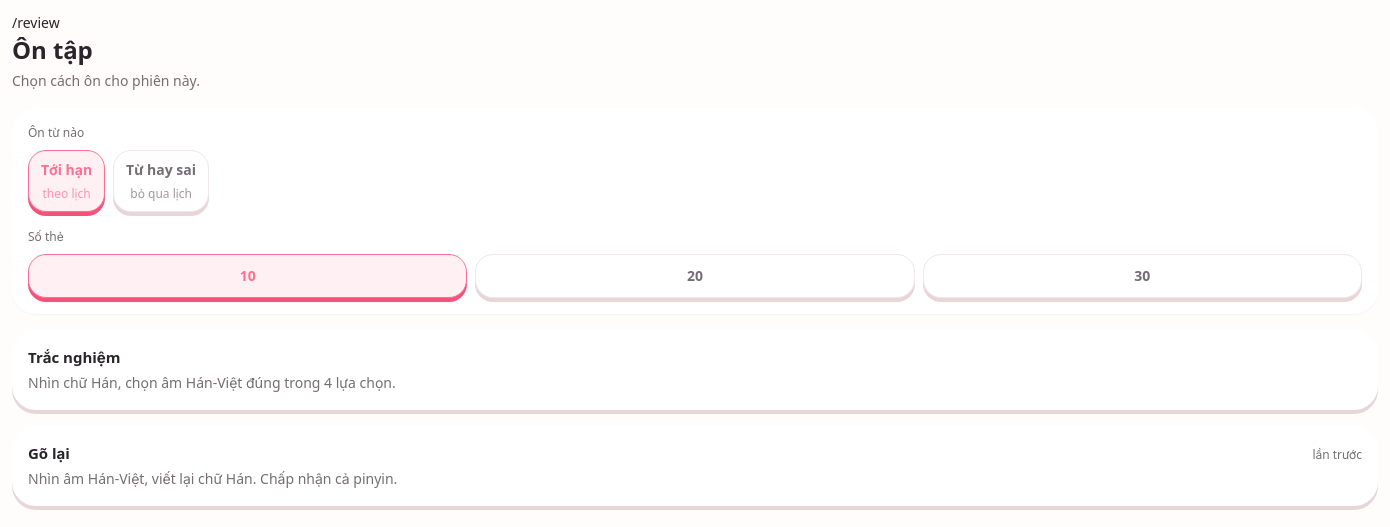
Test: trạng thái rỗng › nói đúng sự thật khi không dựng được câu trắc nghiệm
Click the text "Trắc nghiệm" at (74, 357), box [28,346,120,368]
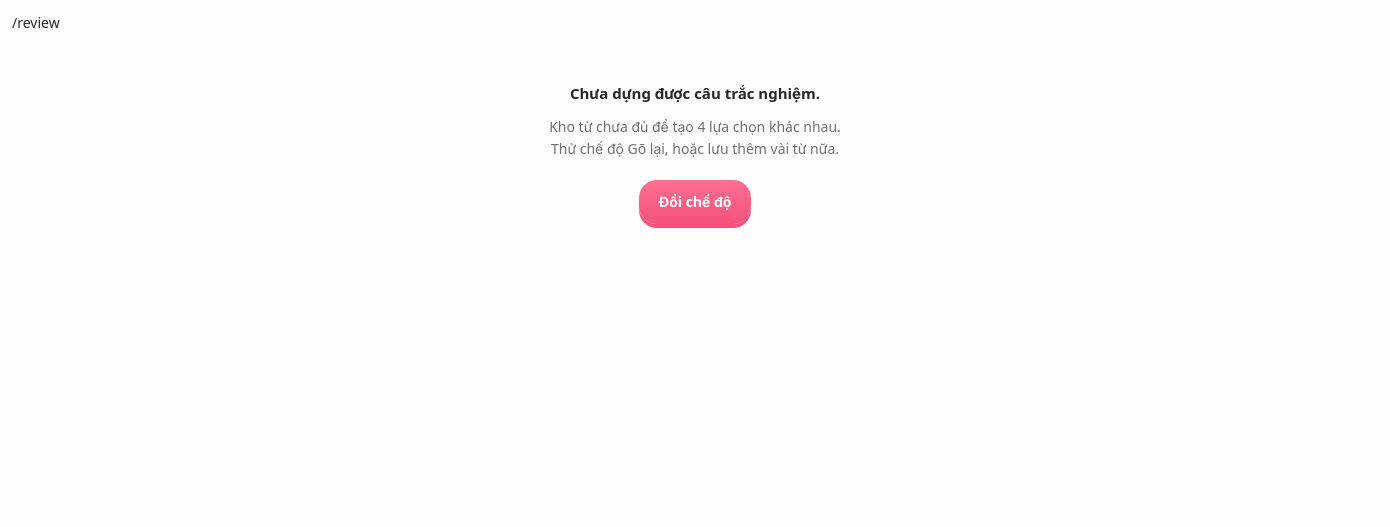
Check: the heading "Chưa dựng được câu trắc nghiệm." is shown, box [570,82,820,104]
Check: the text "Thử chế độ Gõ lại" is shown, box [549,117,841,158]
